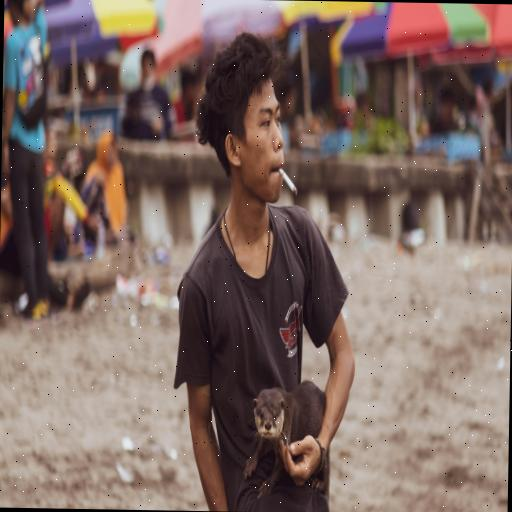merokok: (242, 70, 303, 216)
